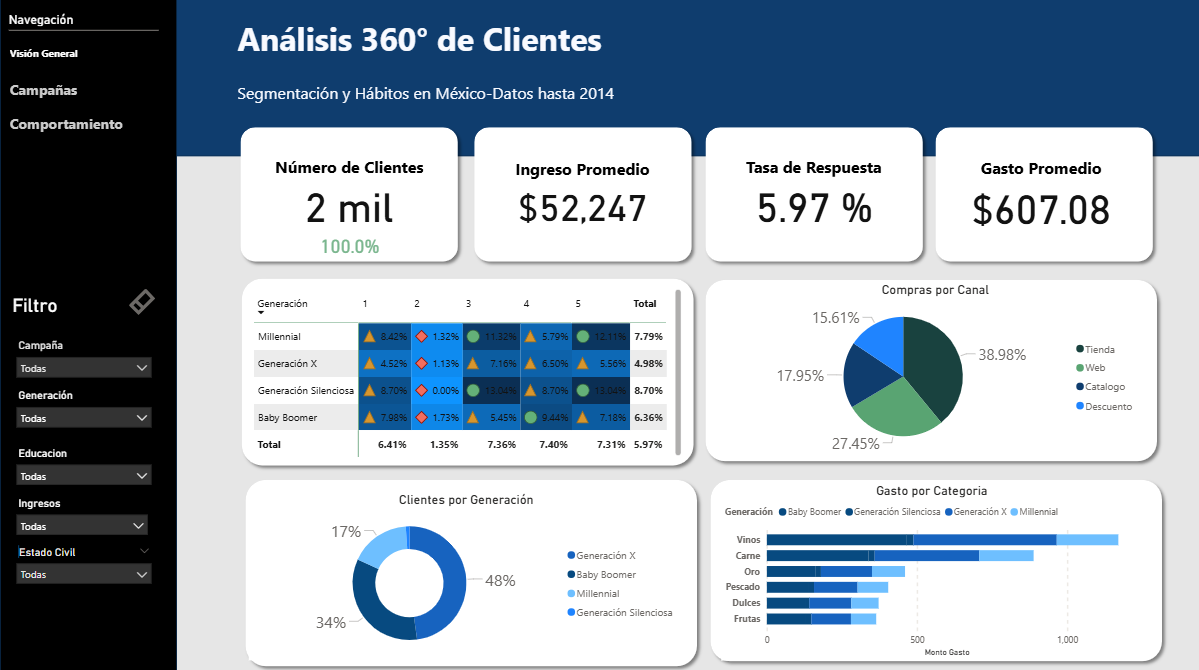

The page's visual inventory and layout, read from the dashboard file:
{"tool":"powerbi","page":{"name":"Visión General","canvas":[1600,900],"ordinal":0},"visuals":[{"type":"shape","box":[938,634,620,260],"z":0},{"type":"shape","box":[0,0,1600,210.9],"z":1000},{"type":"shape","box":[623.4,162.5,307.8,196.9],"z":2000},{"type":"textbox","box":[311.7,20,513.3,86.7],"z":3000},{"type":"textbox","box":[310.9,106.2,832.8,42.2],"z":4000},{"type":"shape","box":[0,0,235.9,900],"z":5000},{"type":"shape","box":[310.9,162.5,307.8,196.9],"z":6000},{"type":"slicer","fields":{"Values":["dim_cliente.Educacion"]},"box":[10.9,593.8,200,65.6],"z":7000},{"type":"slicer","fields":{"Values":["dim_campana.Numero_Campana"]},"box":[10.9,450,200,67.2],"z":8000},{"type":"slicer","fields":{"Values":["dim_cliente.Estado_Civil"]},"box":[10.9,725,200,65.6],"z":9000},{"type":"actionButton","box":[168.8,382.8,42.2,43.8],"z":10000},{"type":"textbox","title":"Filtro","box":[11.7,395,106.7,31.7],"z":11000},{"type":"cardVisual","fields":{"Data":["medidas.Número de Clientes"]},"box":[331.2,178.1,268.8,164.1],"z":12000},{"type":"slicer","fields":{"Values":["dim_cliente.Generación"]},"box":[10.9,517.2,200,76.6],"z":13000},{"type":"slicer","fields":{"Values":["dim_cliente.categoria_ingresos"]},"box":[10.9,659.4,195.3,65.6],"z":14000},{"type":"shape","box":[1239.1,162.5,307.8,196.9],"z":15000},{"type":"shape","box":[931.2,162.5,307.8,196.9],"z":16000},{"type":"shape","box":[312.5,365.6,620.3,267.2],"z":17000},{"type":"shape","box":[318.3,633.3,620,266.7],"z":18000},{"type":"shape","box":[932,366,620,260],"z":19000},{"type":"cardVisual","fields":{"Data":["Avg(fact_respuestas_campanas.Respuesta)"]},"box":[949.5,178.4,270.3,164],"z":20000},{"type":"barChart","title":"Gasto por Categoria ","fields":{"Category":["dim_categoria_producto.Nombre_Categoria"],"Y":["Count(fact_gastos.Monto_Gasto)"],"Series":["dim_cliente.Generación"]},"box":[961.7,646.7,561.7,236.7],"z":21000},{"type":"cardVisual","fields":{"Data":["Avg(dim_cliente.Gasto_total)"]},"box":[1253.3,180,270,163.3],"z":22000},{"type":"cardVisual","fields":{"Data":["medidas.Ingreso Promedio"]},"box":[641.7,178.3,270,163.3],"z":23000},{"type":"donutChart","title":"Clientes por Generación","fields":{"Y":["CountNonNull(dim_cliente.Cliente_ID)"],"Category":["dim_cliente.Generación"]},"box":[331.7,658.3,580,225],"z":24000},{"type":"pivotTable","fields":{"Columns":["dim_campana.Numero_Campana"],"Rows":["dim_cliente.Generación"],"Values":["Avg(fact_respuestas_campanas.Respuesta)"]},"box":[334,384,580,234],"z":25000},{"type":"pieChart","title":"Compras por Canal","fields":{"Category":["dim_canal_compras.Nombre_Canal"],"Y":["Sum(fact_compras.Cantidad_Compras)"]},"box":[970,378,554,234],"z":26000},{"type":"cardVisual","fields":{"Data":["medidas.Clientes Seleccionados"]},"box":[333.3,286.7,266.7,78.3],"z":27000},{"type":"pageNavigator","title":"Navegación","box":[11.7,18.3,200,173.3],"z":27002}]}

Visuals, with their boxes on the page's 1600x900 design canvas (x1, y1, x2, y2). These are canvas units, not pixel positions in the 1199x670 screenshot, which may show the page scaled, cropped or inside an application window:
shape: {"x1": 938, "y1": 634, "x2": 1558, "y2": 894}
shape: {"x1": 0, "y1": 0, "x2": 1600, "y2": 211}
shape: {"x1": 623, "y1": 162, "x2": 931, "y2": 359}
textbox: {"x1": 312, "y1": 20, "x2": 825, "y2": 107}
textbox: {"x1": 311, "y1": 106, "x2": 1144, "y2": 148}
shape: {"x1": 0, "y1": 0, "x2": 236, "y2": 900}
shape: {"x1": 311, "y1": 162, "x2": 619, "y2": 359}
slicer - dim_cliente.Educacion: {"x1": 11, "y1": 594, "x2": 211, "y2": 659}
slicer - dim_campana.Numero_Campana: {"x1": 11, "y1": 450, "x2": 211, "y2": 517}
slicer - dim_cliente.Estado_Civil: {"x1": 11, "y1": 725, "x2": 211, "y2": 791}
actionButton: {"x1": 169, "y1": 383, "x2": 211, "y2": 427}
"Filtro" textbox: {"x1": 12, "y1": 395, "x2": 118, "y2": 427}
cardVisual - medidas.Número de Clientes: {"x1": 331, "y1": 178, "x2": 600, "y2": 342}
slicer - dim_cliente.Generación: {"x1": 11, "y1": 517, "x2": 211, "y2": 594}
slicer - dim_cliente.categoria_ingresos: {"x1": 11, "y1": 659, "x2": 206, "y2": 725}
shape: {"x1": 1239, "y1": 162, "x2": 1547, "y2": 359}
shape: {"x1": 931, "y1": 162, "x2": 1239, "y2": 359}
shape: {"x1": 312, "y1": 366, "x2": 933, "y2": 633}
shape: {"x1": 318, "y1": 633, "x2": 938, "y2": 900}
shape: {"x1": 932, "y1": 366, "x2": 1552, "y2": 626}
cardVisual - Avg(fact_respuestas_campanas.Respuesta): {"x1": 950, "y1": 178, "x2": 1220, "y2": 342}
"Gasto por Categoria " barChart: {"x1": 962, "y1": 647, "x2": 1523, "y2": 883}
cardVisual - Avg(dim_cliente.Gasto_total): {"x1": 1253, "y1": 180, "x2": 1523, "y2": 343}
cardVisual - medidas.Ingreso Promedio: {"x1": 642, "y1": 178, "x2": 912, "y2": 342}
"Clientes por Generación" donutChart: {"x1": 332, "y1": 658, "x2": 912, "y2": 883}
pivotTable - dim_campana.Numero_Campana x dim_cliente.Generación: {"x1": 334, "y1": 384, "x2": 914, "y2": 618}
"Compras por Canal" pieChart: {"x1": 970, "y1": 378, "x2": 1524, "y2": 612}
cardVisual - medidas.Clientes Seleccionados: {"x1": 333, "y1": 287, "x2": 600, "y2": 365}
"Navegación" pageNavigator: {"x1": 12, "y1": 18, "x2": 212, "y2": 192}
